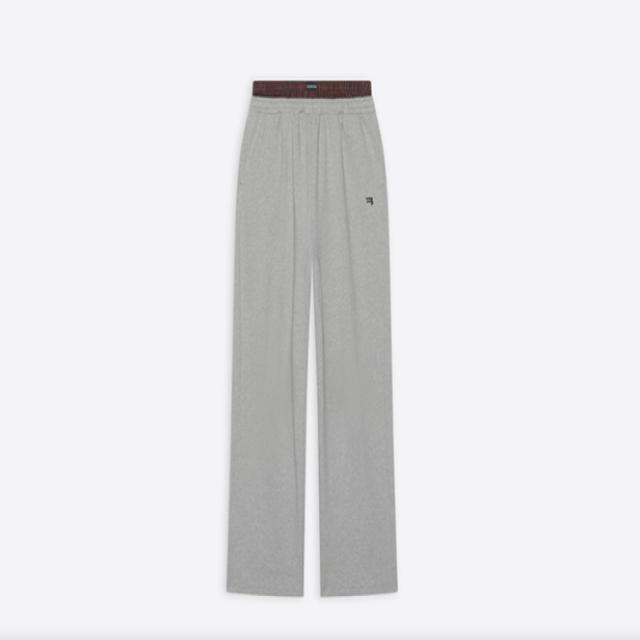pants: (224, 76, 403, 600)
